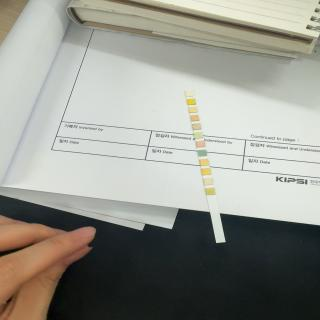mark: (206, 188, 215, 195), (205, 178, 212, 185), (187, 99, 195, 105), (189, 107, 197, 113), (191, 115, 199, 121), (192, 124, 200, 130), (194, 132, 202, 138), (198, 150, 206, 156), (200, 160, 208, 166), (202, 168, 210, 174), (197, 141, 204, 147), (186, 91, 193, 96)
